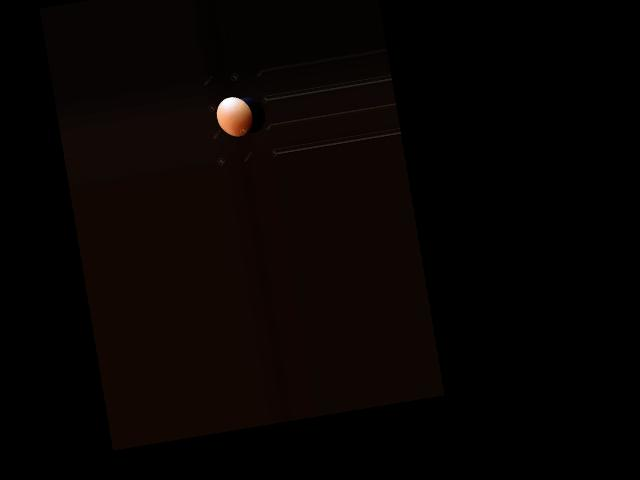egg: (214, 94, 256, 139)
